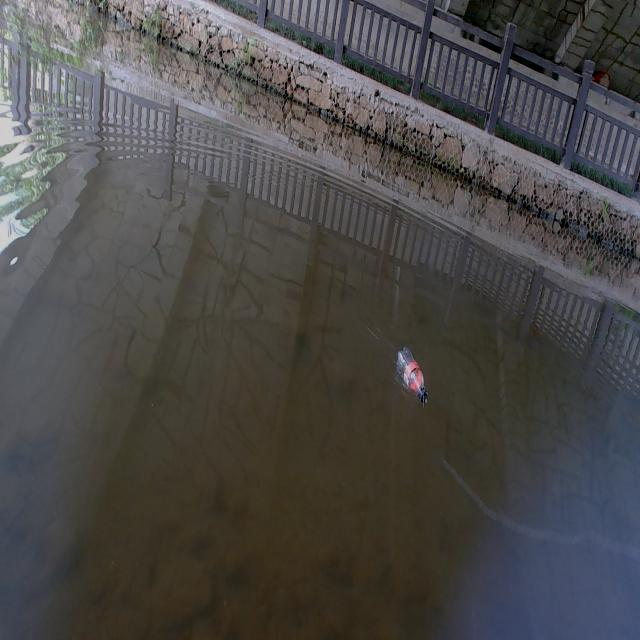bottle: (386, 344, 436, 406)
